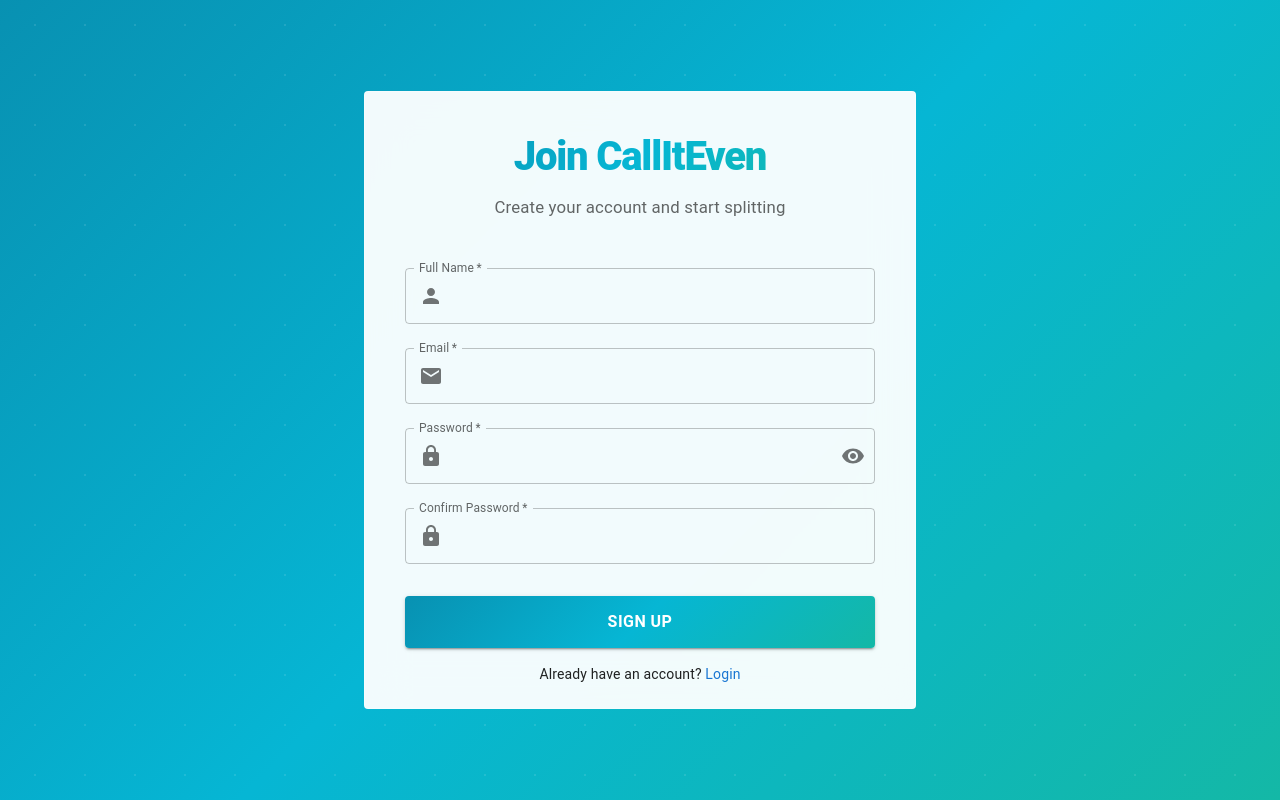
Register Page › should show error when password is too short
Type "John" into the field labelled "Full Name *" at (663, 296), box [451,268,875,324]
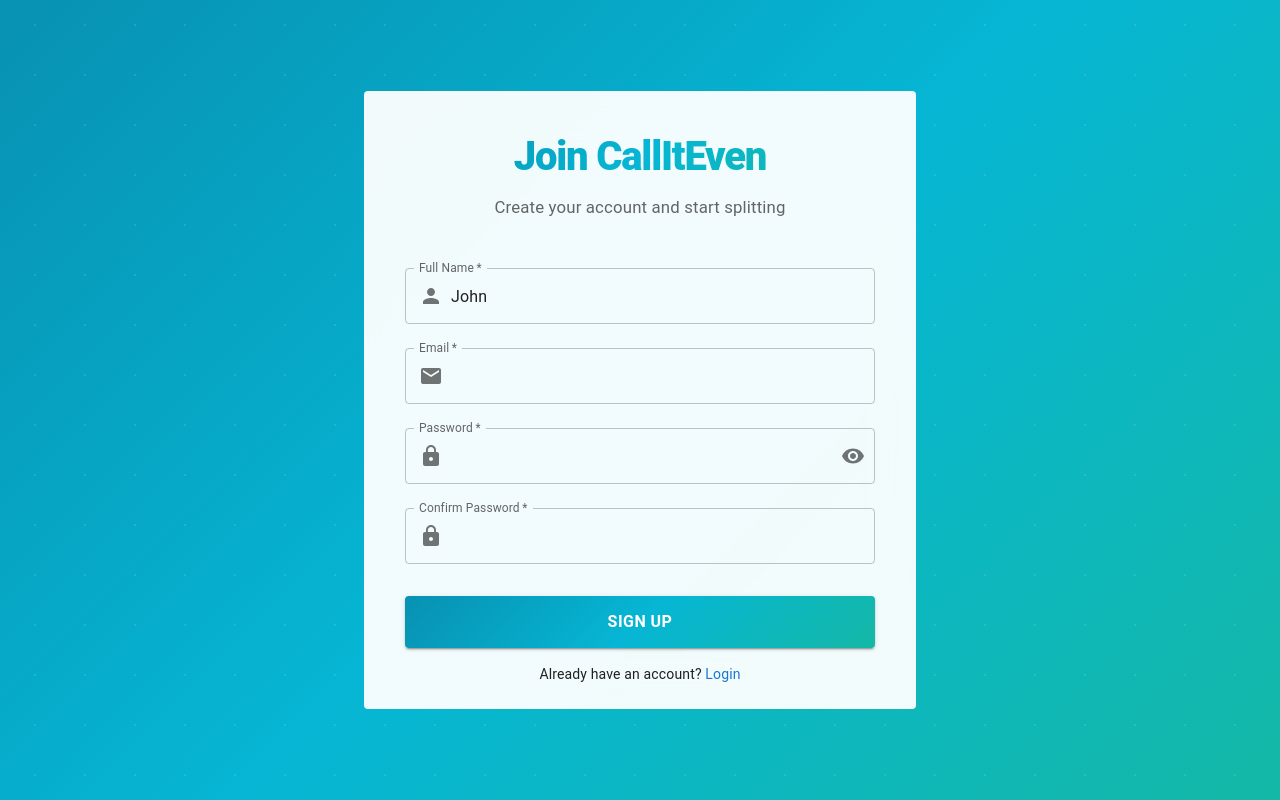
Type "john@example.com" into the field labelled "Email *" at (663, 376), box [451,348,875,404]
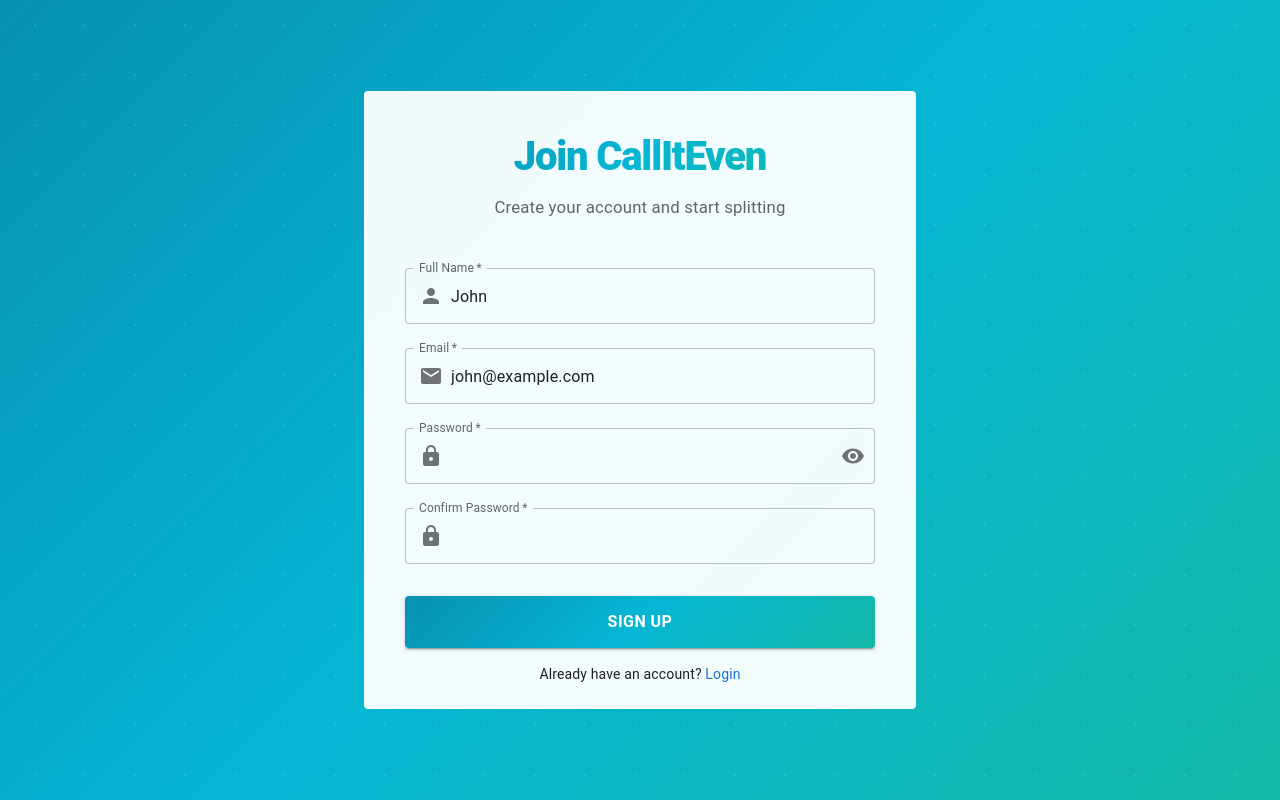
Type "12345" into the password field named "password" at (638, 456), box [451,428,825,484]
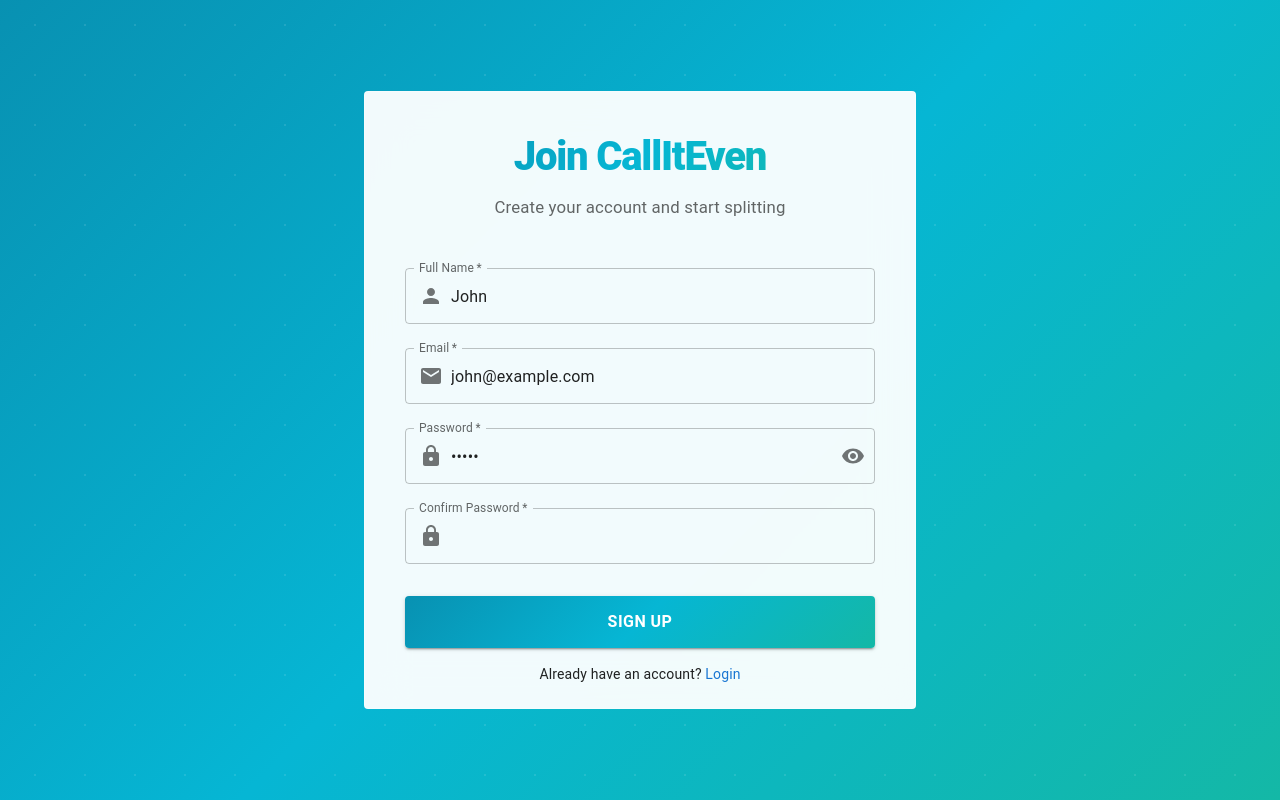
Type "12345" into the password field named "confirmPassword" at (663, 536), box [451,508,875,564]
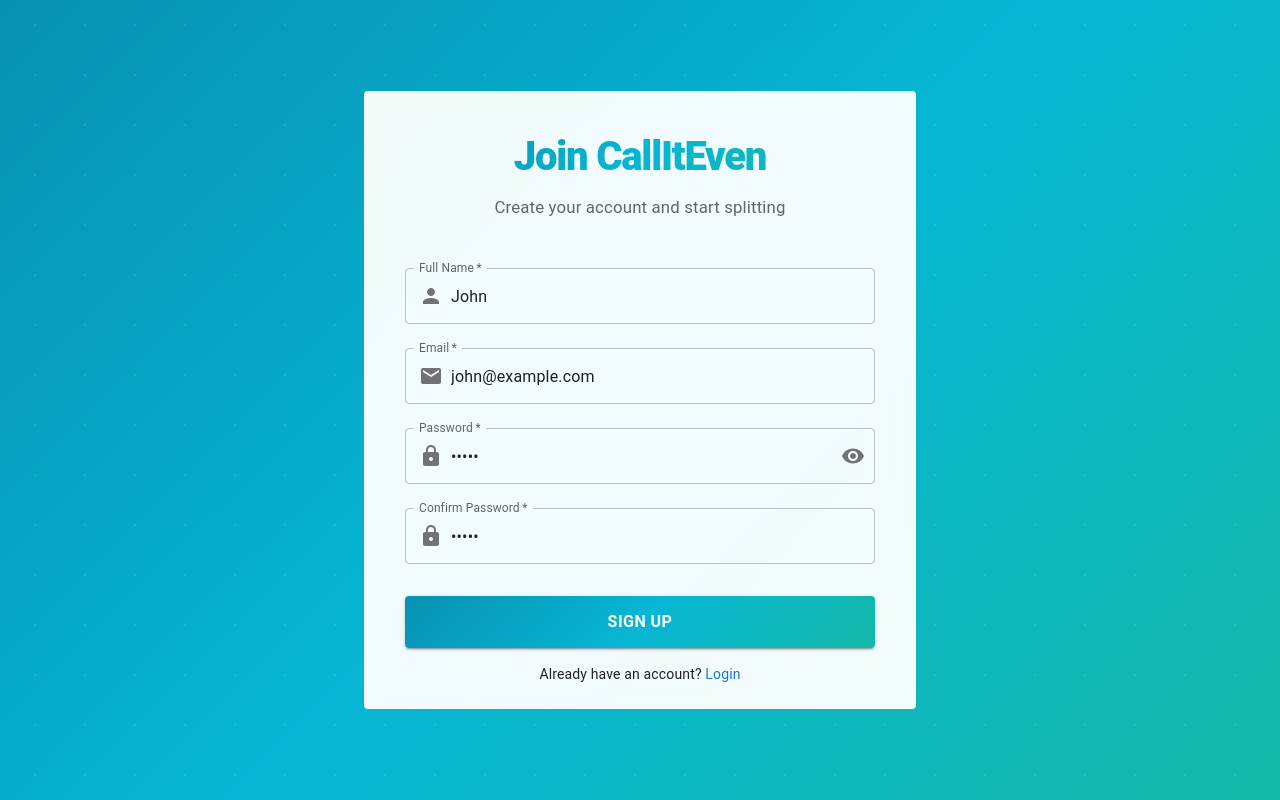
Click the button "Sign Up" at (640, 622), box [405,596,875,648]
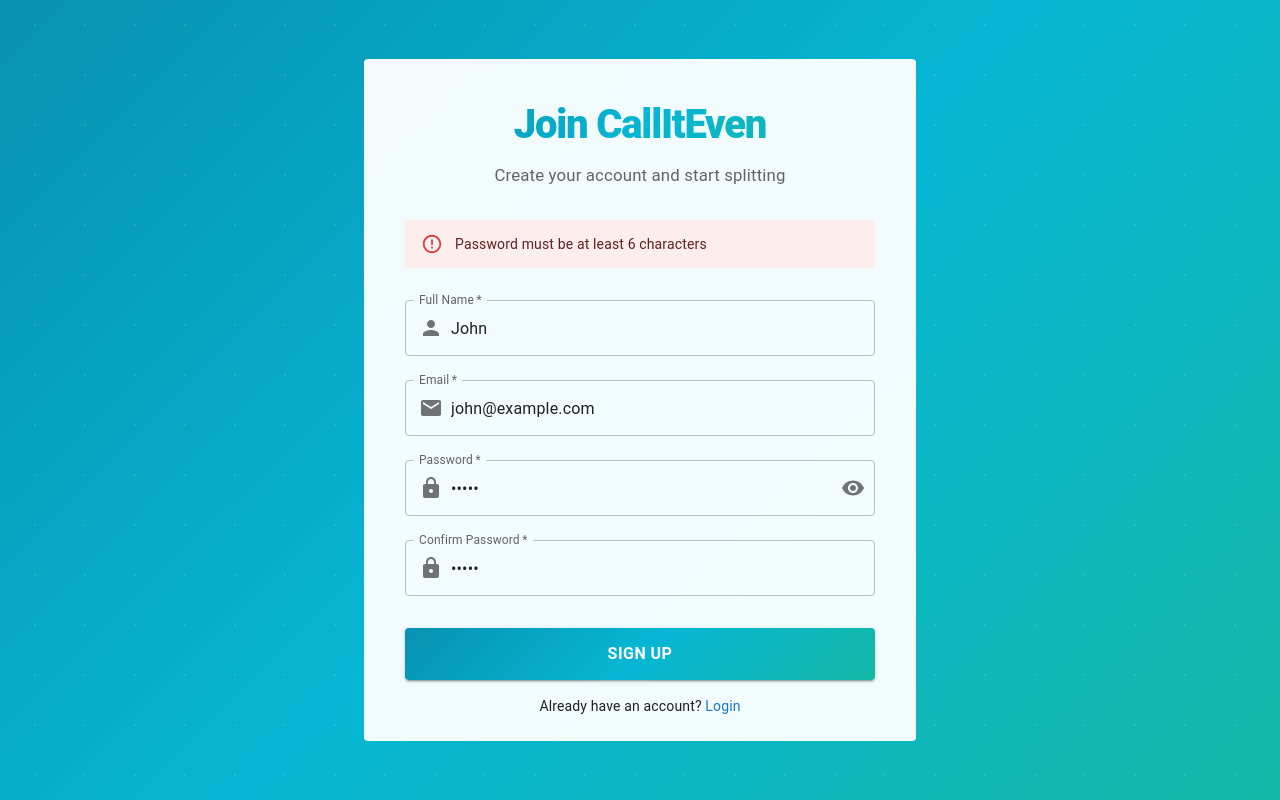
Now the text "Password must be at least 6 characters" is shown, box [455,236,707,252]
